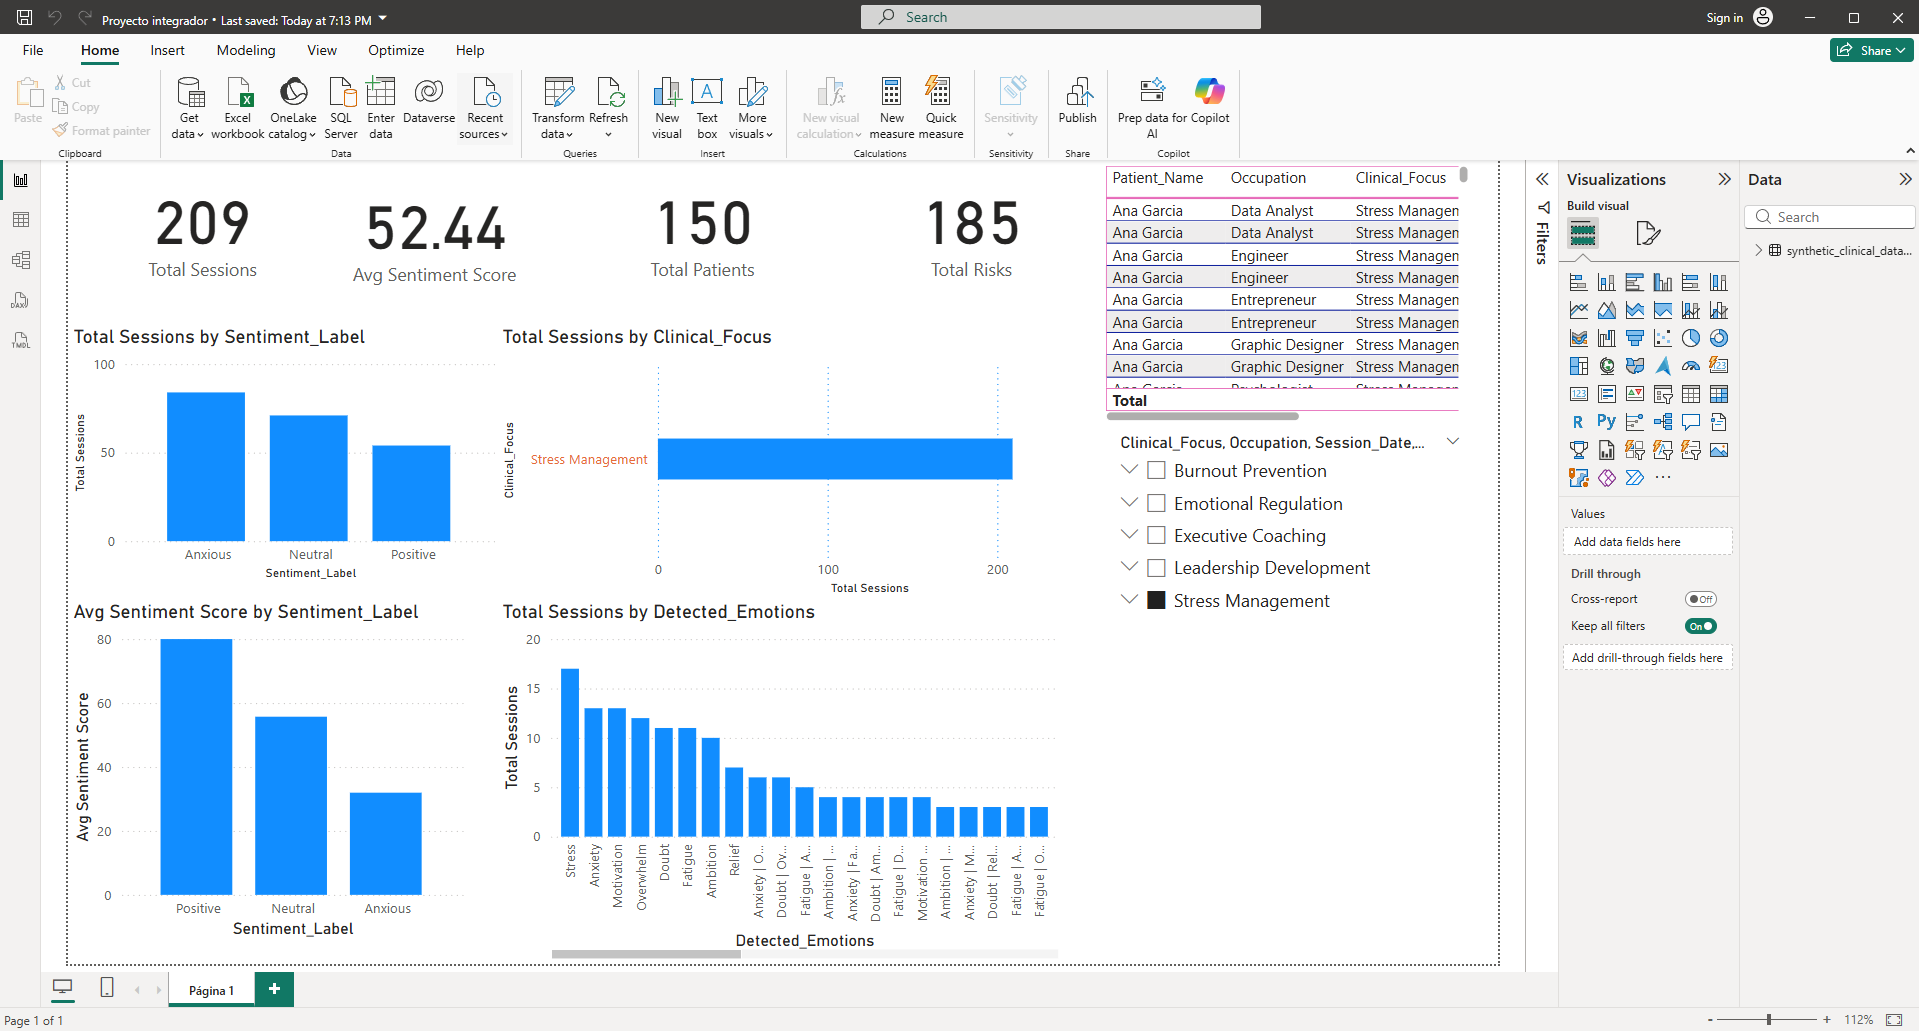

What the dashboard file says about the page in this screenshot:
{"tool":"powerbi","page":{"name":"Página 1","canvas":[1280,720],"ordinal":0},"visuals":[{"type":"card","fields":{"Values":["synthetic_clinical_dataset_powerbi.Total Sessions"]},"box":[0,1.2,241.3,118.2],"z":0},{"type":"card","fields":{"Values":["synthetic_clinical_dataset_powerbi.Total Patients"]},"box":[449.1,0,240.1,119.4],"z":1000},{"type":"card","fields":{"Values":["synthetic_clinical_dataset_powerbi.Total Risks"]},"box":[689.2,0,240.1,119.4],"z":2000},{"type":"card","fields":{"Values":["synthetic_clinical_dataset_powerbi.Avg Sentiment Score"]},"box":[207.7,1.2,241.3,126.9],"z":3000},{"type":"clusteredBarChart","fields":{"Category":["synthetic_clinical_dataset_powerbi.Clinical_Focus"],"Y":["synthetic_clinical_dataset_powerbi.Total Sessions"]},"box":[384.4,148,538.6,246.3],"z":4000},{"type":"clusteredColumnChart","fields":{"Category":["synthetic_clinical_dataset_powerbi.Sentiment_Label"],"Y":["synthetic_clinical_dataset_powerbi.Total Sessions"]},"box":[0,148,388.1,232.6],"z":5000},{"type":"hundredPercentStackedColumnChart","fields":{"Category":["synthetic_clinical_dataset_powerbi.Sentiment_Label"],"Y":["synthetic_clinical_dataset_powerbi.Avg Sentiment Score"]},"box":[0,394.3,359.5,307.3],"z":6000},{"type":"tableEx","fields":{"Values":["synthetic_clinical_dataset_powerbi.Patient_Name","synthetic_clinical_dataset_powerbi.Occupation","synthetic_clinical_dataset_powerbi.Clinical_Focus","synthetic_clinical_dataset_powerbi.Sentiment_Label","Sum(synthetic_clinical_dataset_powerbi.Risk_Count)"]},"box":[923,0,335.9,238.8],"z":7000},{"type":"slicer","fields":{"Values":["synthetic_clinical_dataset_powerbi.Clinical_Focus","synthetic_clinical_dataset_powerbi.Occupation","synthetic_clinical_dataset_powerbi.Session_Date","synthetic_clinical_dataset_powerbi.Sentiment_Label"]},"box":[929.2,240.1,329.6,238.8],"z":8000},{"type":"lineStackedColumnComboChart","fields":{"Category":["synthetic_clinical_dataset_powerbi.Detected_Emotions"],"Y":["synthetic_clinical_dataset_powerbi.Total Sessions"]},"box":[384.4,394.3,507.5,325.9],"z":9000}]}

Visuals, with their boxes on the page's 1280x720 design canvas (x1, y1, x2, y2). These are canvas units, not pixel positions in the 1919x1031 screenshot, which may show the page scaled, cropped or inside an application window:
card - synthetic_clinical_dataset_powerbi.Total Sessions: (x1=0, y1=1, x2=241, y2=119)
card - synthetic_clinical_dataset_powerbi.Total Patients: (x1=449, y1=0, x2=689, y2=119)
card - synthetic_clinical_dataset_powerbi.Total Risks: (x1=689, y1=0, x2=929, y2=119)
card - synthetic_clinical_dataset_powerbi.Avg Sentiment Score: (x1=208, y1=1, x2=449, y2=128)
clusteredBarChart - synthetic_clinical_dataset_powerbi.Clinical_Focus x synthetic_clinical_dataset_powerbi.Total Sessions: (x1=384, y1=148, x2=923, y2=394)
clusteredColumnChart - synthetic_clinical_dataset_powerbi.Sentiment_Label x synthetic_clinical_dataset_powerbi.Total Sessions: (x1=0, y1=148, x2=388, y2=381)
hundredPercentStackedColumnChart - synthetic_clinical_dataset_powerbi.Sentiment_Label x synthetic_clinical_dataset_powerbi.Avg Sentiment Score: (x1=0, y1=394, x2=360, y2=702)
tableEx - synthetic_clinical_dataset_powerbi.Patient_Name x synthetic_clinical_dataset_powerbi.Occupation: (x1=923, y1=0, x2=1259, y2=239)
slicer - synthetic_clinical_dataset_powerbi.Clinical_Focus x synthetic_clinical_dataset_powerbi.Occupation: (x1=929, y1=240, x2=1259, y2=479)
lineStackedColumnComboChart - synthetic_clinical_dataset_powerbi.Detected_Emotions x synthetic_clinical_dataset_powerbi.Total Sessions: (x1=384, y1=394, x2=892, y2=720)
